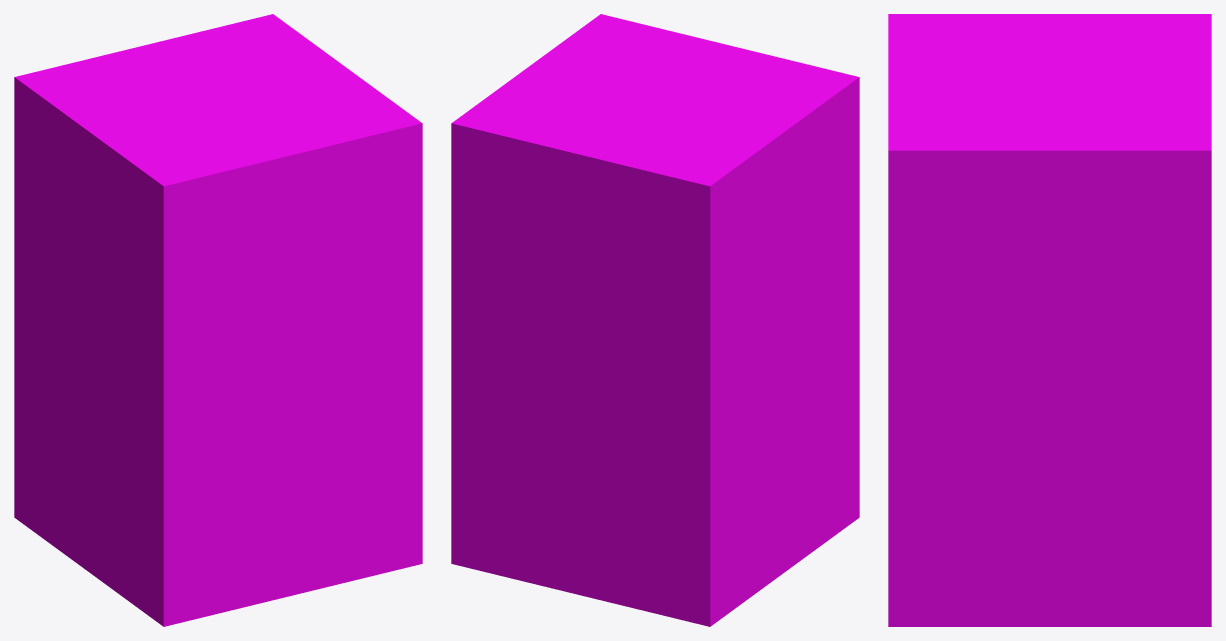
Rendered from PowerUpSpeed.fbx.
The picture shows the model from 3 angles, left to right: view 1: azimuth 30°, elevation 25°; view 2: azimuth 150°, elevation 25°; view 3: azimuth 270°, elevation 25°; orthographic projection. The views are drawn at different scales.
Visible parts, largest first — view 1: pCube1; view 2: pCube1; view 3: pCube1.
Part boxes in pixels (left/top/right/bottom): pCube1: left=14, top=14, right=422, bottom=626; pCube1: left=451, top=14, right=859, bottom=626; pCube1: left=888, top=14, right=1211, bottom=626.
Bounding box in the file's own units: 1 × 1.63 × 1.
